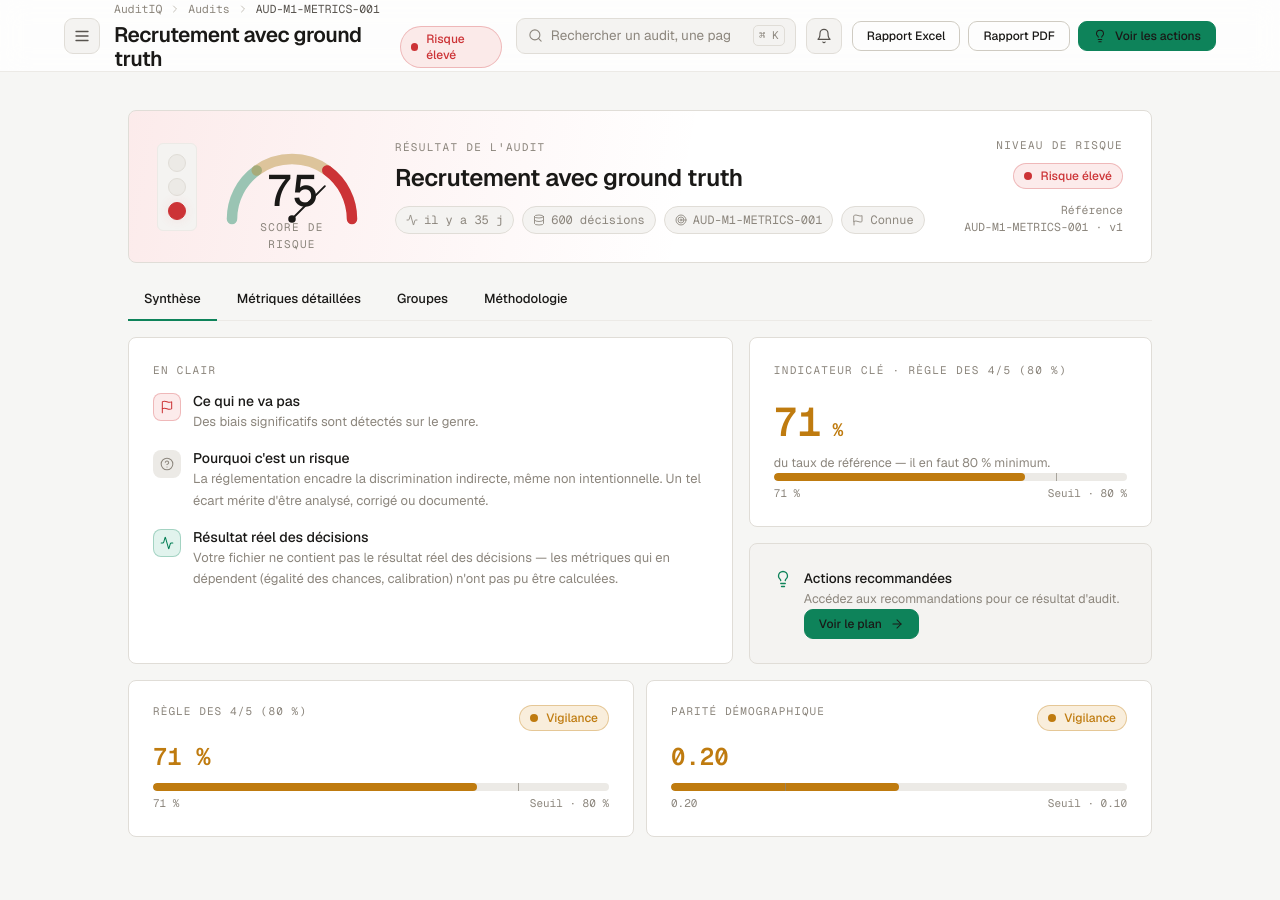
it: M1 fairlearn metrics — with ground truth › shows ratios for pairwise matrix
Click the tab "Groupes" at x=422, y=300, box [381,279,464,321]
(page scrolled)
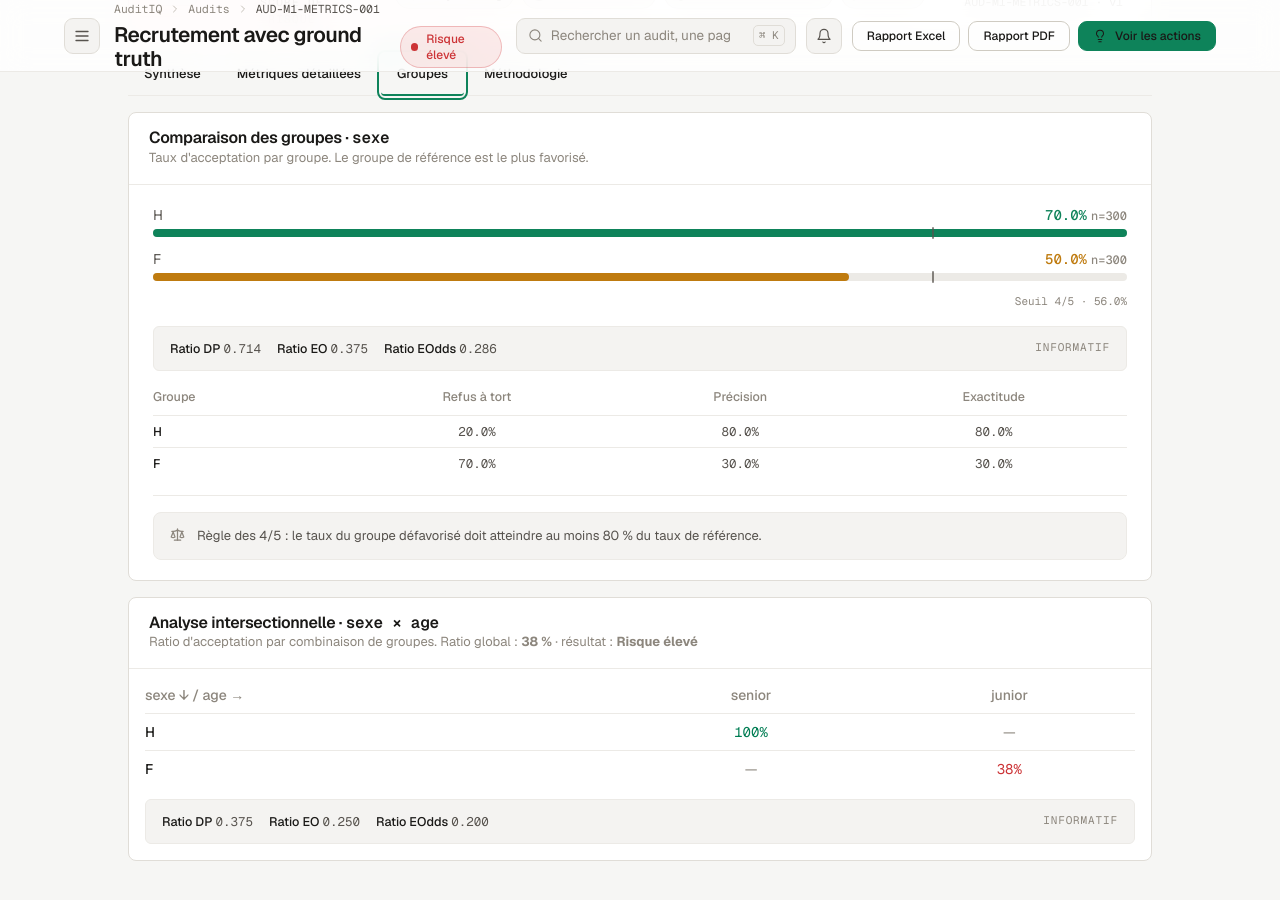
Now the text "0.250" is shown, box [322,813,360,830]
Now the text "0.200" is shown, box [451,813,489,830]
